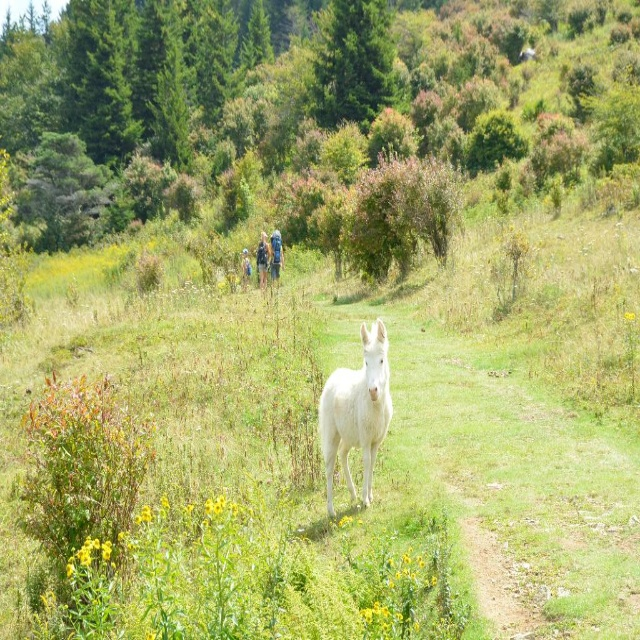Horse: (318, 318, 392, 520)
